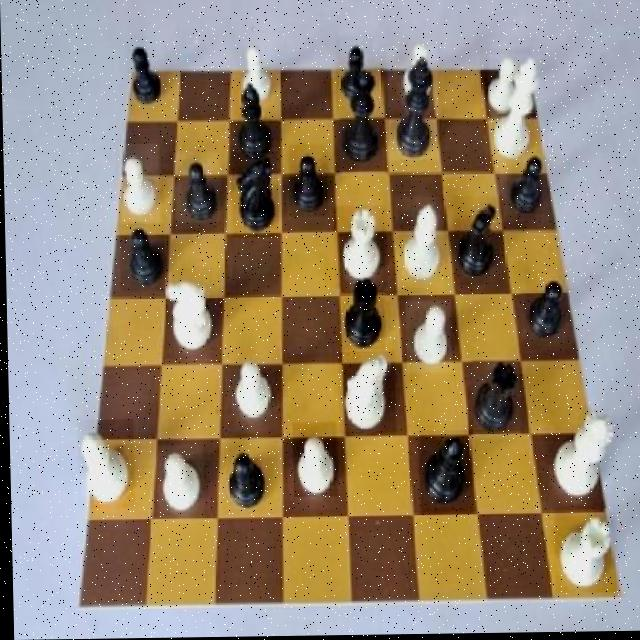bishop: (416, 432, 471, 515), (233, 81, 272, 169)
black-bishop: (386, 47, 438, 162)
black-king: (453, 197, 504, 287), (230, 152, 278, 237)
black-knight: (500, 151, 547, 225), (519, 275, 566, 348), (220, 448, 268, 519), (173, 153, 219, 224), (125, 37, 169, 110), (119, 223, 165, 292), (335, 36, 374, 112), (288, 145, 328, 218)
black-pawn: (338, 66, 384, 181)
black-queen: (470, 360, 519, 441), (339, 269, 383, 352)
black-rook: (76, 419, 133, 509), (393, 198, 442, 289)
white-bishop: (487, 55, 543, 169)
white-king: (338, 352, 395, 435), (162, 269, 214, 359)
white-knight: (223, 357, 277, 433), (479, 51, 532, 124), (154, 445, 201, 520), (289, 424, 335, 498), (404, 303, 450, 376), (118, 145, 159, 224), (394, 41, 439, 107), (237, 40, 276, 111)
white-pawn: (542, 408, 614, 510)
white-queen: (551, 513, 615, 594), (333, 206, 387, 289)
